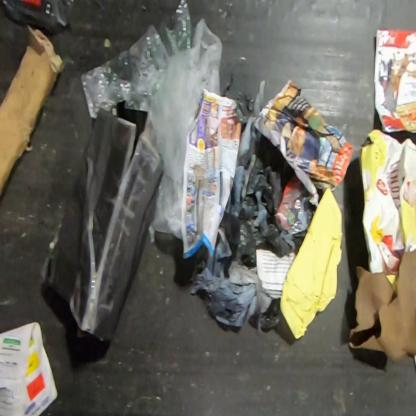cardboard: (38, 107, 164, 343), (0, 22, 67, 203), (358, 128, 415, 296)
rigid_plastic: (0, 0, 72, 36)
soft_plastic: (188, 90, 296, 332), (148, 16, 223, 245), (78, 0, 193, 119)
